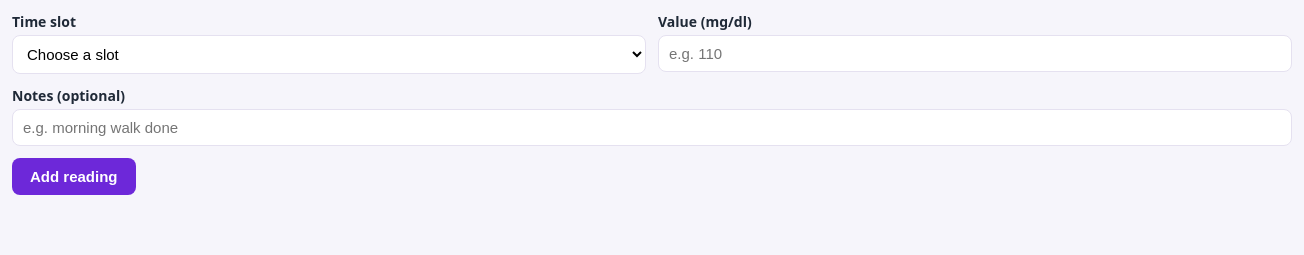
ReadingForm › value 39 (below range) shows the range error
Select "Morning (fasting)" in the dropdown labelled "Time slot" at (329, 54), box 12,35 -> 646,74
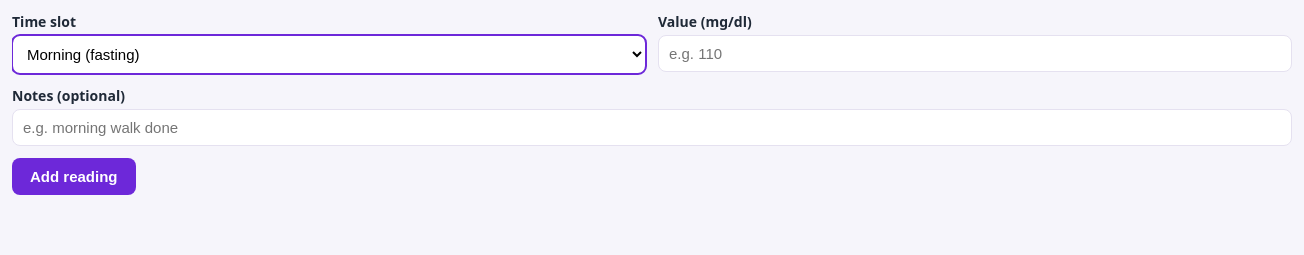
Type "39" into the number field labelled "Value (mg/dl)" at (975, 54), box 658,35 -> 1292,72
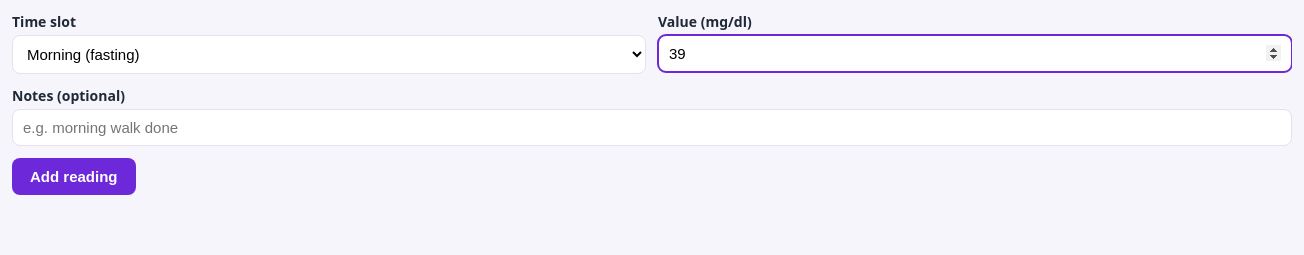
Click the button "Add reading" at (74, 176), box 12,158 -> 136,195
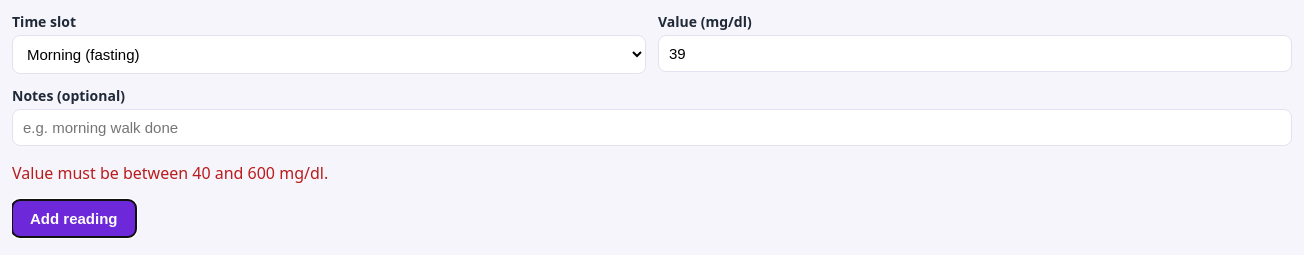
Now the message reads "Value must be between 40 and 600 mg/dl.", box 12,162 -> 328,184
